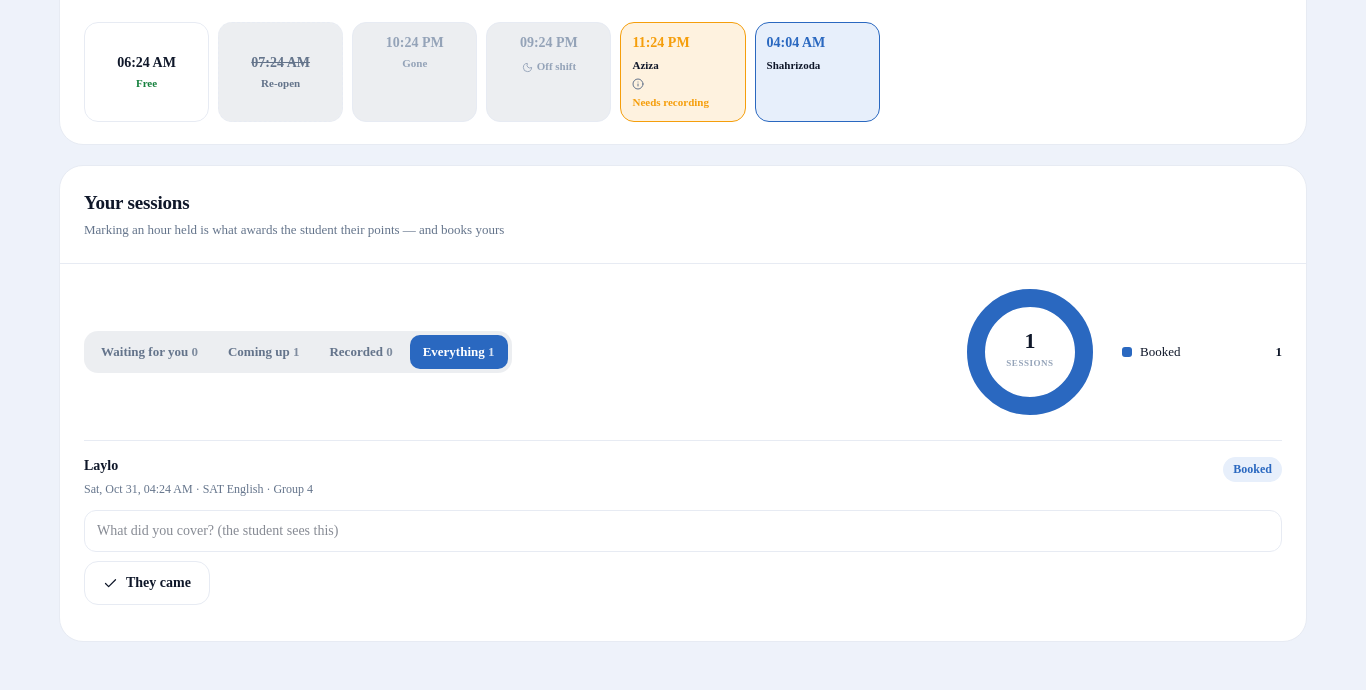
the diary › shows the late and not-attended buttons when the hour starts, without a reload
The image size is (1366, 690).
(page scrolled)
Click the button "Everything 1".
click(459, 352)  # box left=410, top=335, right=508, bottom=370
Wait 31000 ms
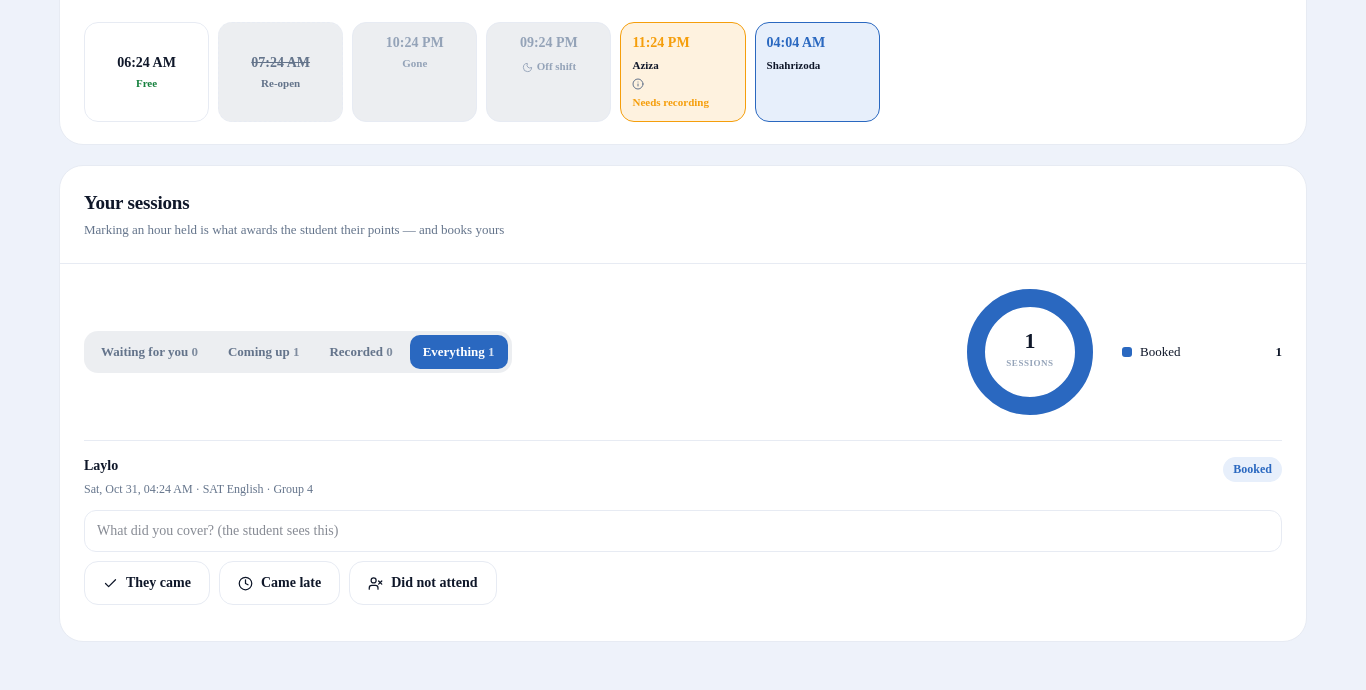
Result: the button "Came late" is shown at left=219, top=561, right=340, bottom=605
Result: the button "Did not attend" is shown at left=349, top=561, right=497, bottom=605
